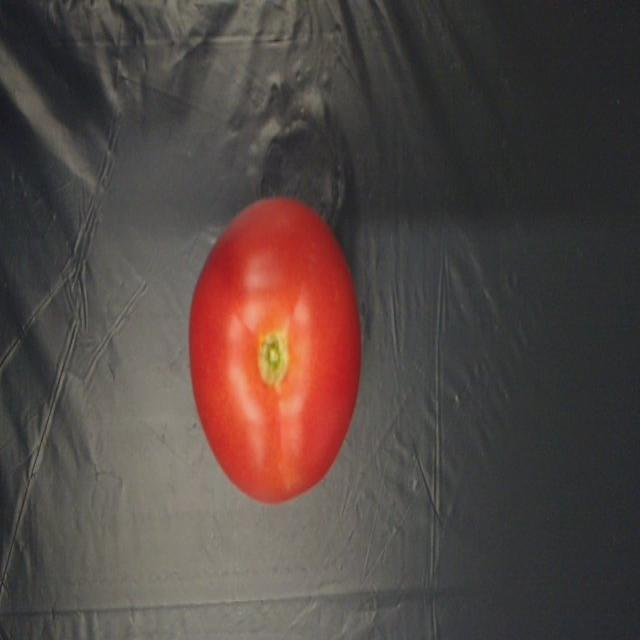kirmizi: (154, 174, 386, 518)
